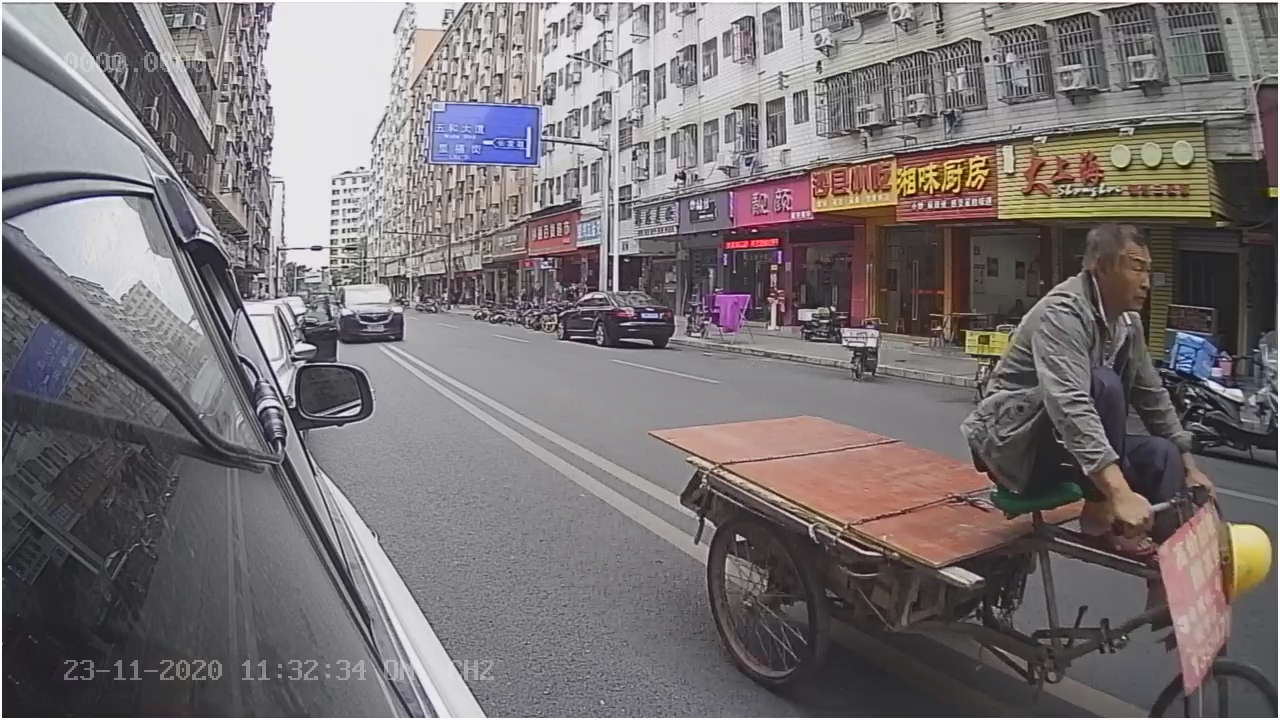person: (968, 187, 1218, 524)
